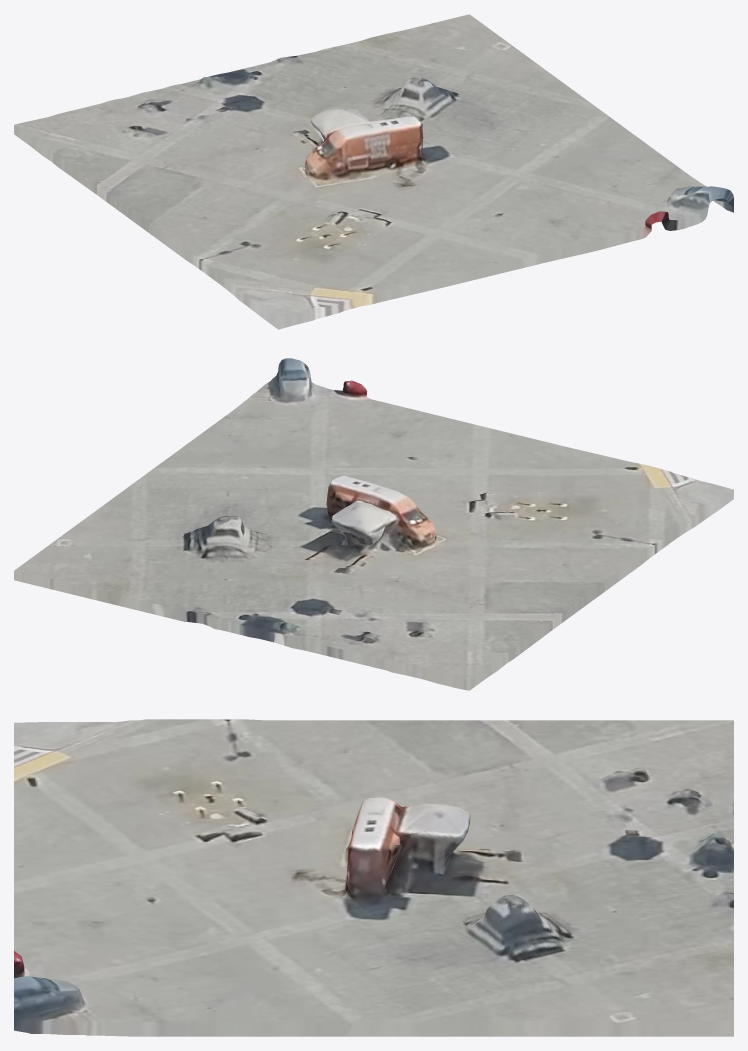
File: z20-167794-405221-h0-yup-uvflip-v3-world.glb
3 renders of one model, top to bottom at view 1: azimuth 30°, elevation 25°; view 2: azimuth 150°, elevation 25°; view 3: azimuth 270°, elevation 25°, orthographic. The views are drawn at different scales.
Bounding box in the file's own units: 30.16 × 3.36 × 30.32.
Materials: 1 (1 with a texture image).
